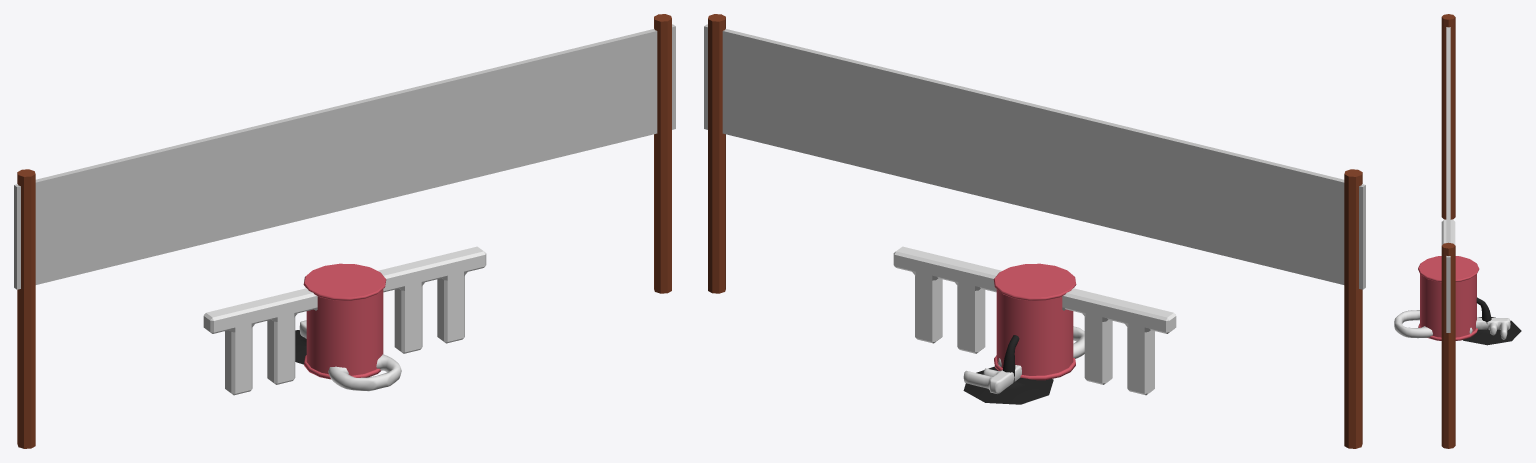
Rendered from CityItems.fbx.
3 views of the same model, side by side, from view 1: azimuth 30°, elevation 25°; view 2: azimuth 150°, elevation 25°; view 3: azimuth 270°, elevation 25° (orthographic). The views are drawn at different scales.
Parts seen in each view (by area): view 1: Finish, Barrier, BarrelHole, Key; view 2: Finish, Barrier, BarrelHole, Key; view 3: Finish, BarrelHole, Key, Barrier.
Boxes of the visible parts, x1,y1,x2,y2 form: Finish: (14,14,675,448); Barrier: (203,246,486,395); BarrelHole: (295,263,386,379); Key: (299,320,401,391); Finish: (704,14,1365,448); Barrier: (893,246,1176,395); BarrelHole: (963,263,1076,404); Key: (963,326,1084,393); Finish: (1441,14,1455,448); BarrelHole: (1418,256,1521,345); Key: (1394,310,1510,339); Barrier: (1441,220,1455,245).
Bounding box in the file's own units: 2076 × 819 × 473.
